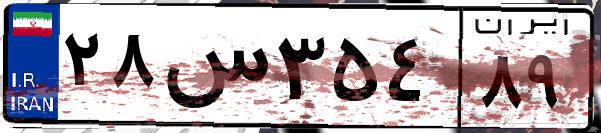2: (57, 26, 110, 100)
3: (270, 28, 330, 110)
4: (385, 28, 445, 110)
5: (330, 28, 385, 110)
8: (475, 38, 525, 113), (110, 28, 158, 98)
9: (525, 38, 570, 115)
س: (158, 20, 270, 120)
